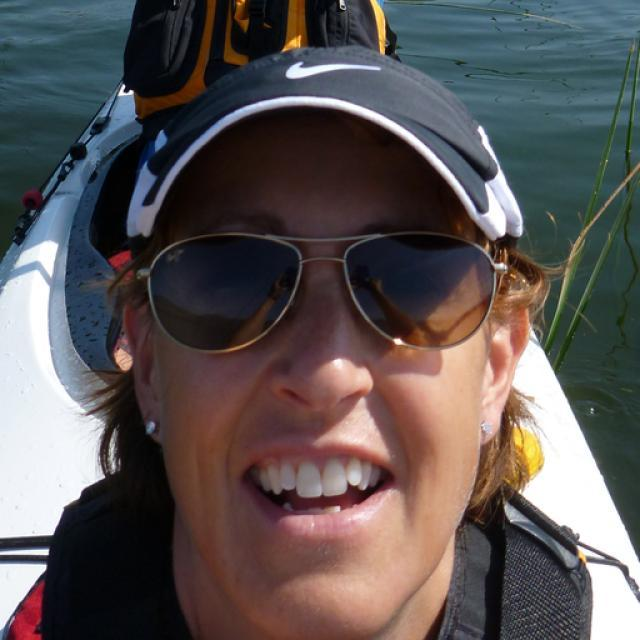happy: (150, 128, 485, 622)
